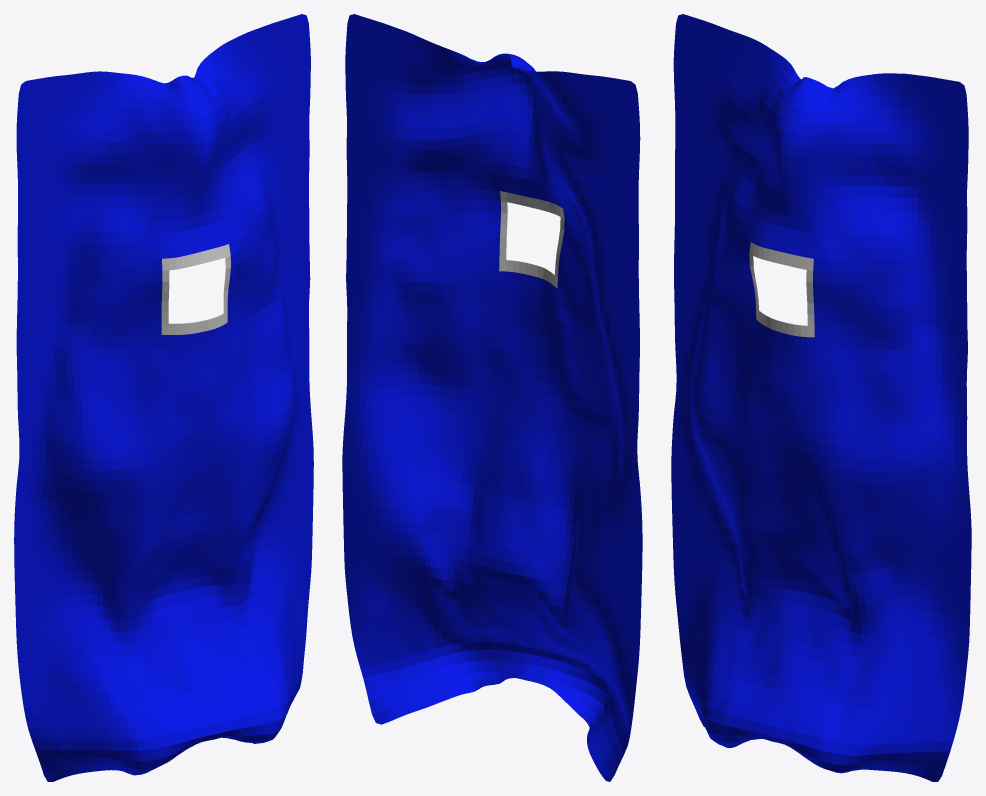
Rendered from draps.fbx.
3 views of the same model, side by side, from view 1: azimuth 30°, elevation 25°; view 2: azimuth 150°, elevation 25°; view 3: azimuth 330°, elevation 25° (orthographic).
Visible parts, largest first — view 1: Plane; view 2: Plane; view 3: Plane.
Boxes of the visible parts, x1,y1,x2,y2 form: Plane: [14, 14, 313, 781]; Plane: [342, 14, 642, 781]; Plane: [671, 14, 971, 781].
Bounding box in the file's own units: 1019 × 2295 × 311.
